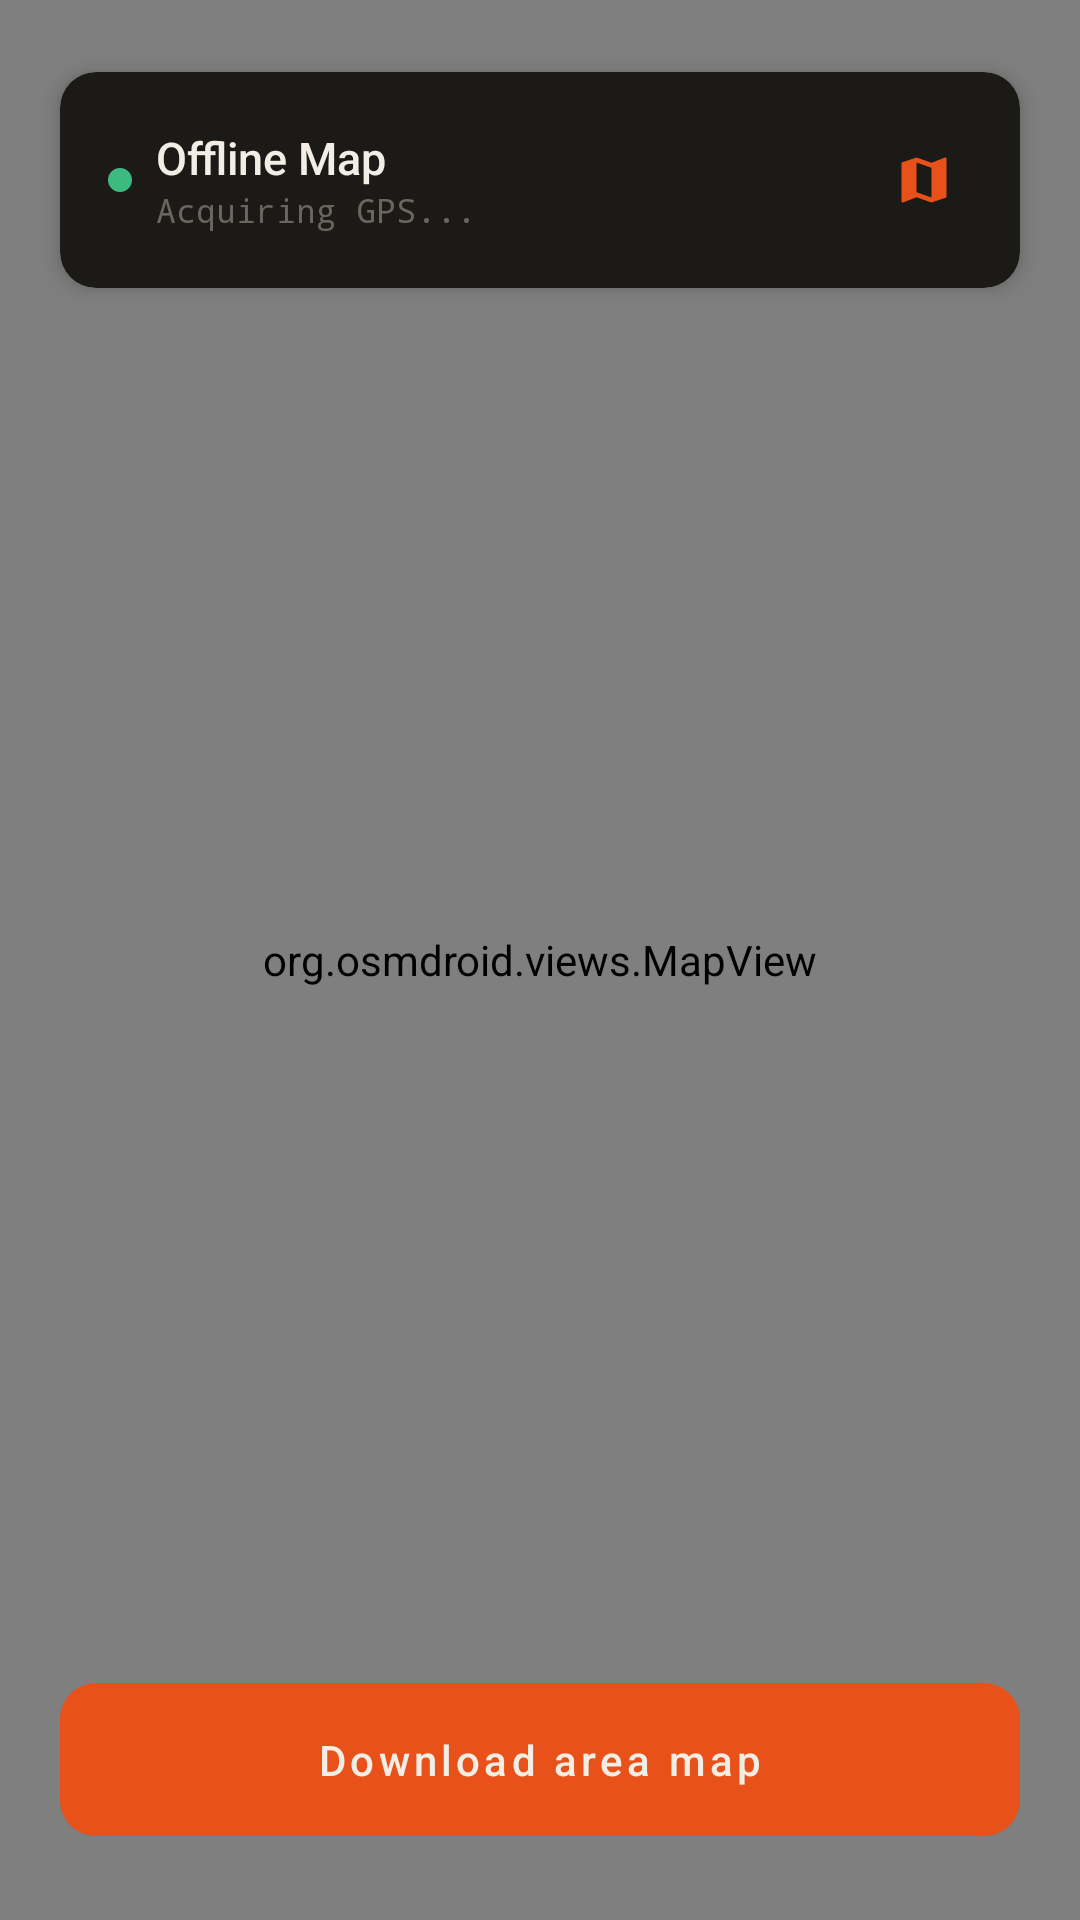

Locate icon controls on the screen. Image size 1080*1920, boxes as (x1, y1, x2, y2).
map: (901, 157, 947, 203)
